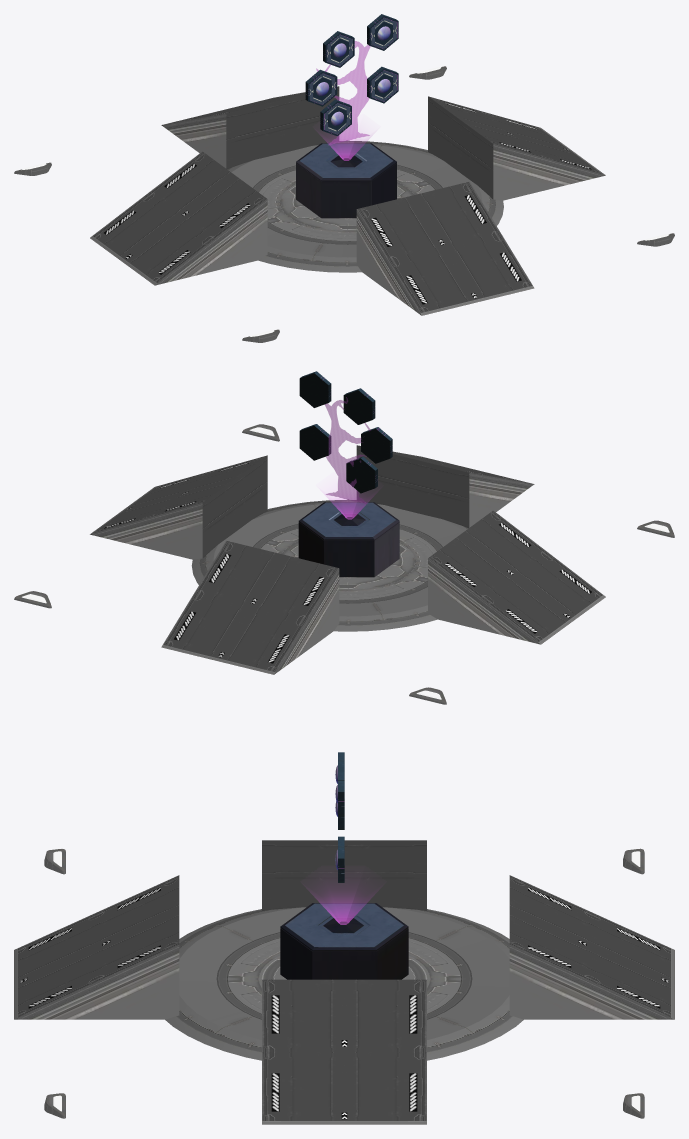
Rendered from sc-teleport.glb.
3 renders of one model, top to bottom at view 1: azimuth 30°, elevation 25°; view 2: azimuth 150°, elevation 25°; view 3: azimuth 270°, elevation 25°, orthographic. The views are drawn at different scales.
Parts seen in each view (by area): view 1: sc-teleport; view 2: sc-teleport; view 3: sc-teleport.
Part boxes in pixels (x1,y1,x2,y2): sc-teleport: [14, 14, 674, 342]; sc-teleport: [14, 371, 674, 704]; sc-teleport: [14, 752, 674, 1124].
Size of the model in its own units: 16 by 6.25 by 16.
7 materials, 6 textured.
